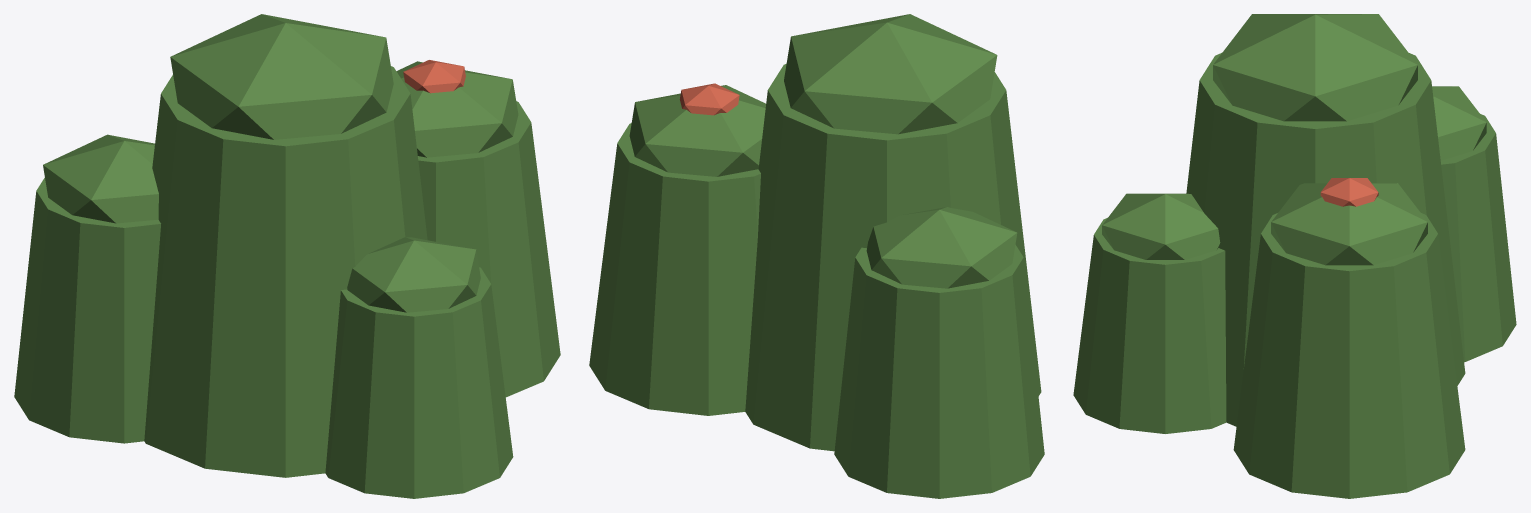
Rendered from desert_barrel_v31.glb.
3 views of the same model, side by side, from view 1: azimuth 30°, elevation 25°; view 2: azimuth 150°, elevation 25°; view 3: azimuth 270°, elevation 25° (orthographic). The views are drawn at different scales.
Visible parts, largest first — view 1: desert_barrel; view 2: desert_barrel; view 3: desert_barrel.
Part boxes in pixels (x1,y1,x2,y2): desert_barrel: [14, 14, 560, 498]; desert_barrel: [589, 14, 1044, 498]; desert_barrel: [1073, 14, 1516, 498].
Size of the model in its own units: 1.51 by 1.16 by 1.3.
